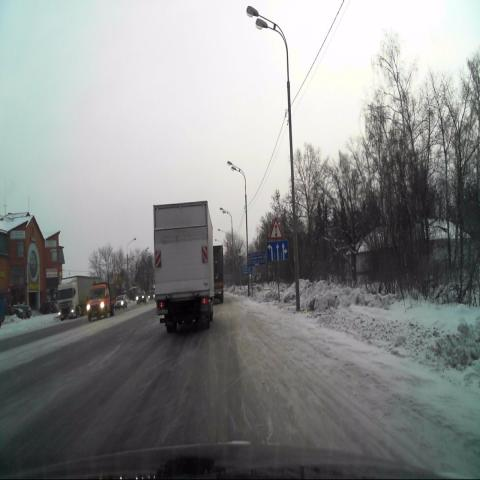1_8: (270, 217, 282, 239)
